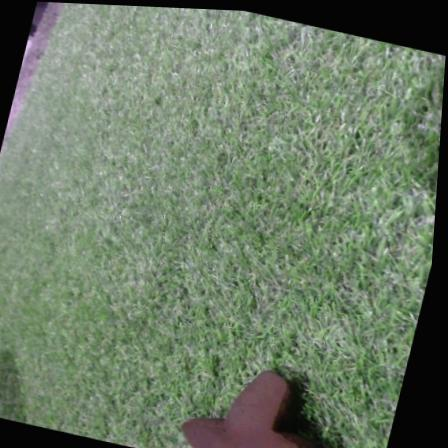dog-poop: (169, 336, 353, 448)
